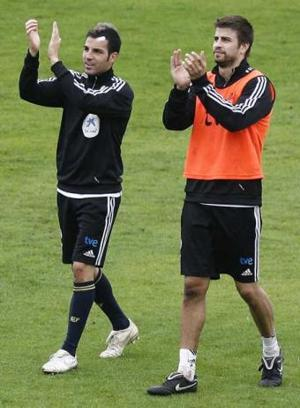person: (146, 13, 285, 402)
